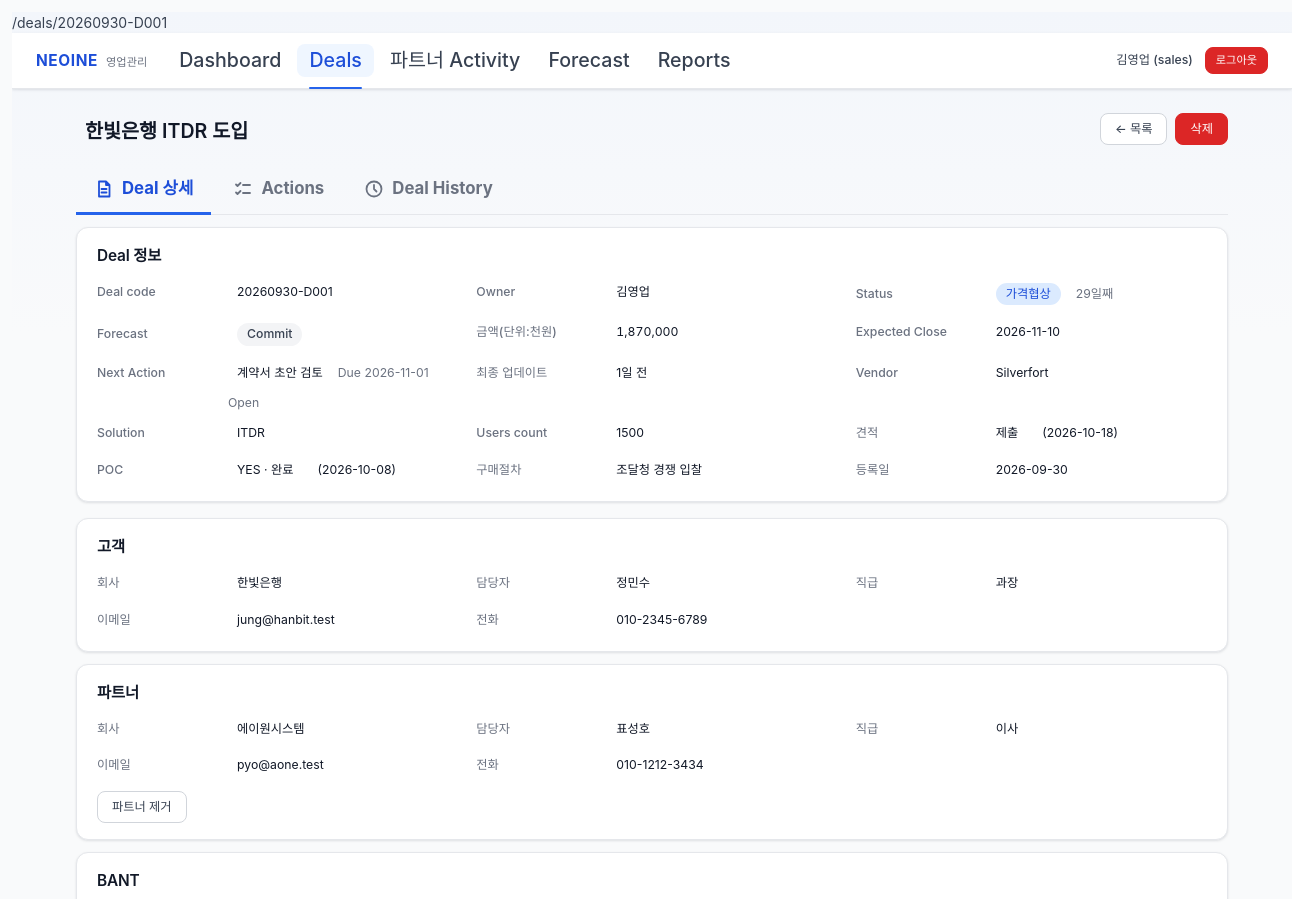
Scenario: 상세 현재값 바 인라인 변경 (T-SYNC-UI 상세) › closes the status editor with Escape or by leaving it, without changing anything or asking
Check: the heading "한빛은행 ITDR 도입" is shown, box x1=76 y1=113 x2=257 y2=150
Click the button with aria-label "Status 수정" at (1028, 294), box x1=987 y1=277 x2=1070 y2=311
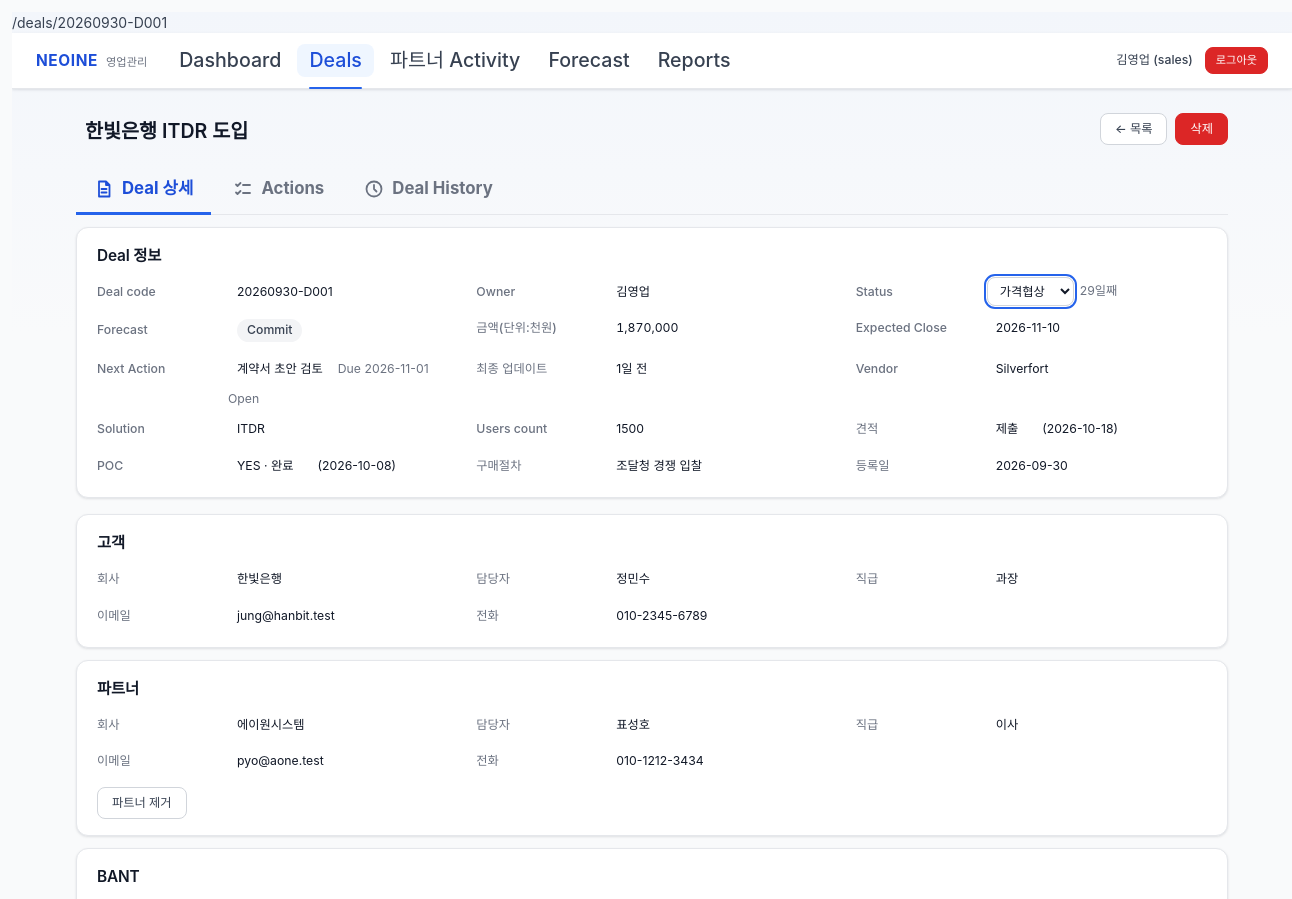
Press Escape
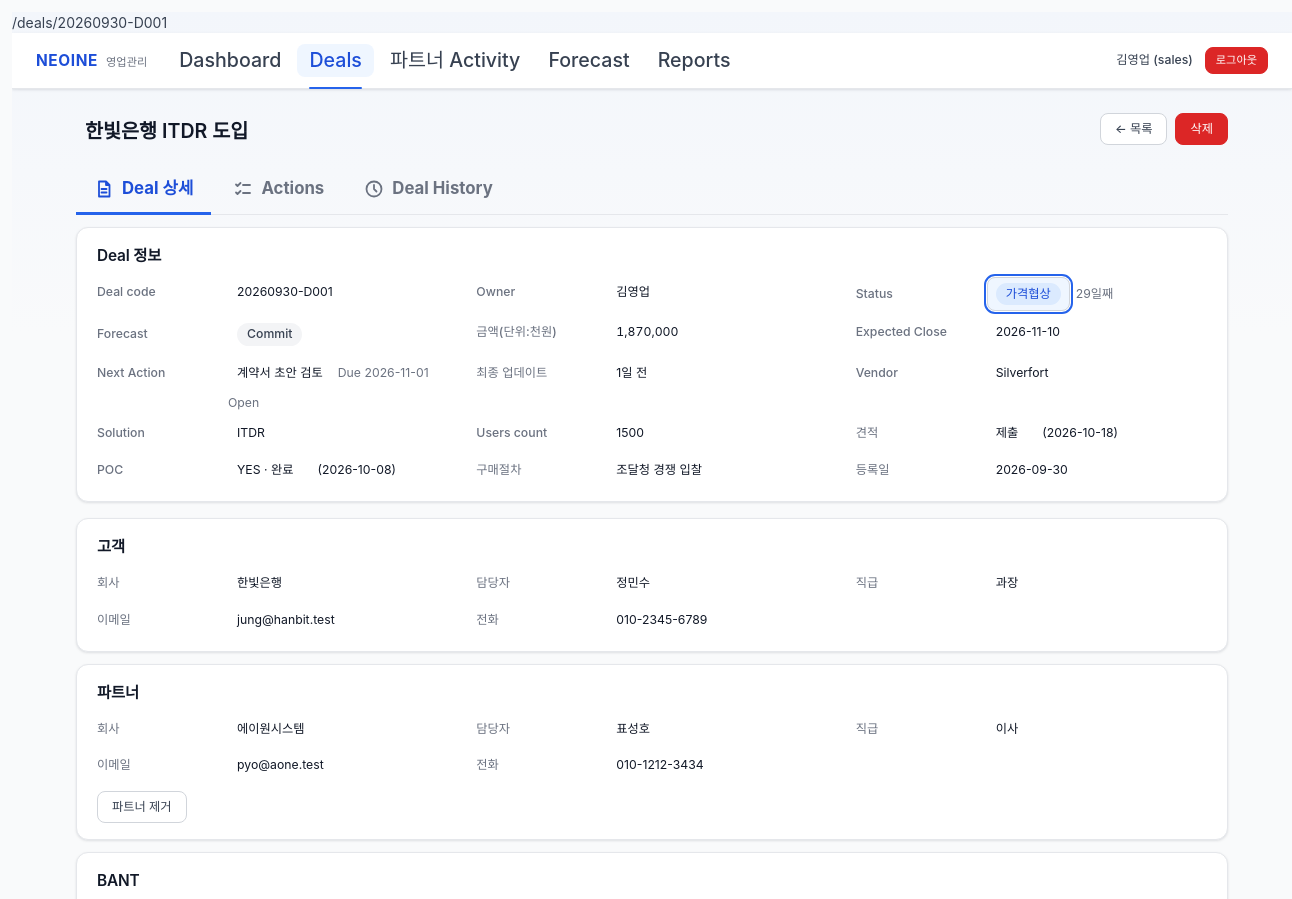
Click the button with aria-label "Status 수정" at (1028, 294), box x1=987 y1=277 x2=1070 y2=311
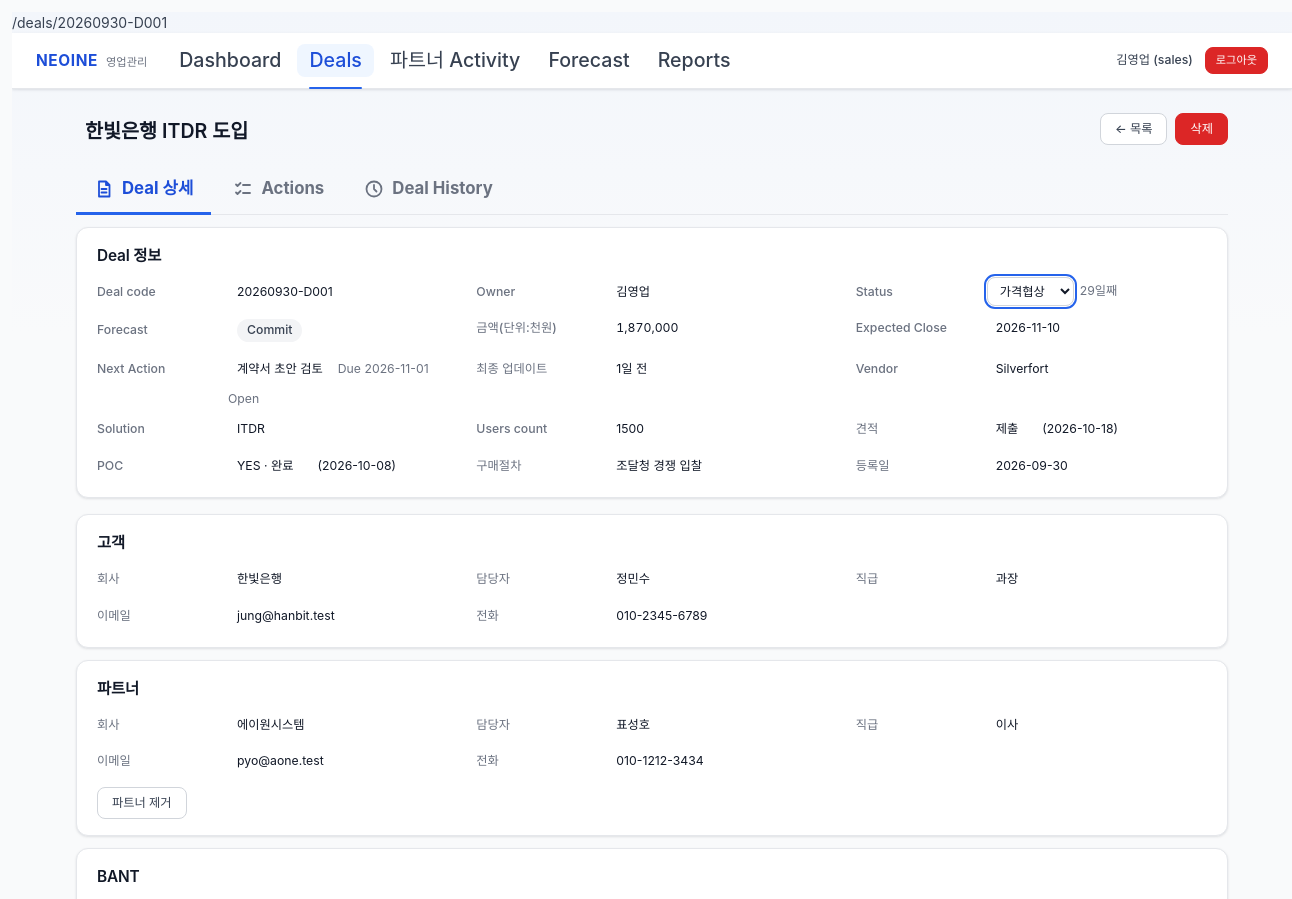
Press Tab
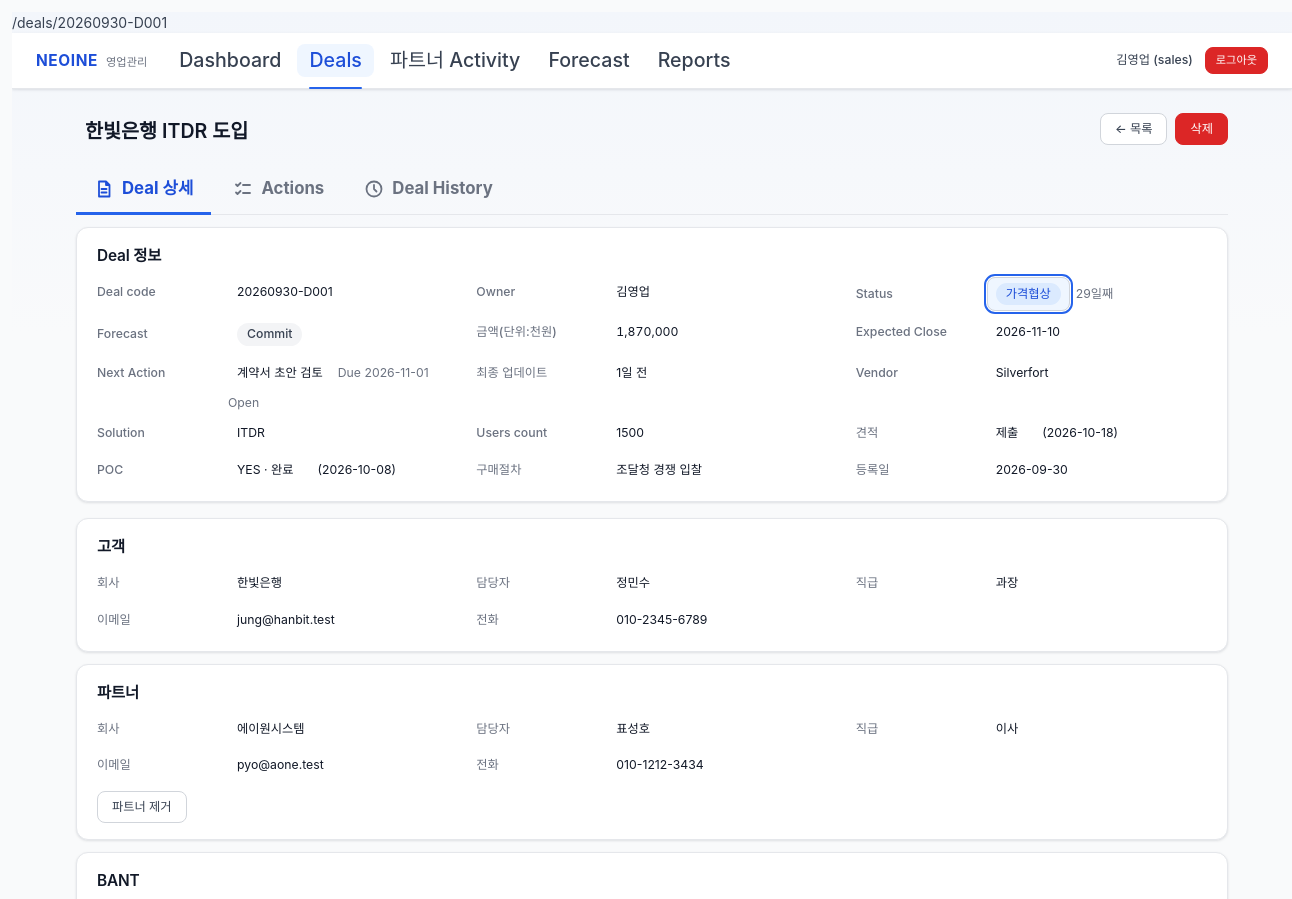
Check: the button with aria-label "Status 수정" reads "가격협상", box x1=987 y1=277 x2=1070 y2=311
